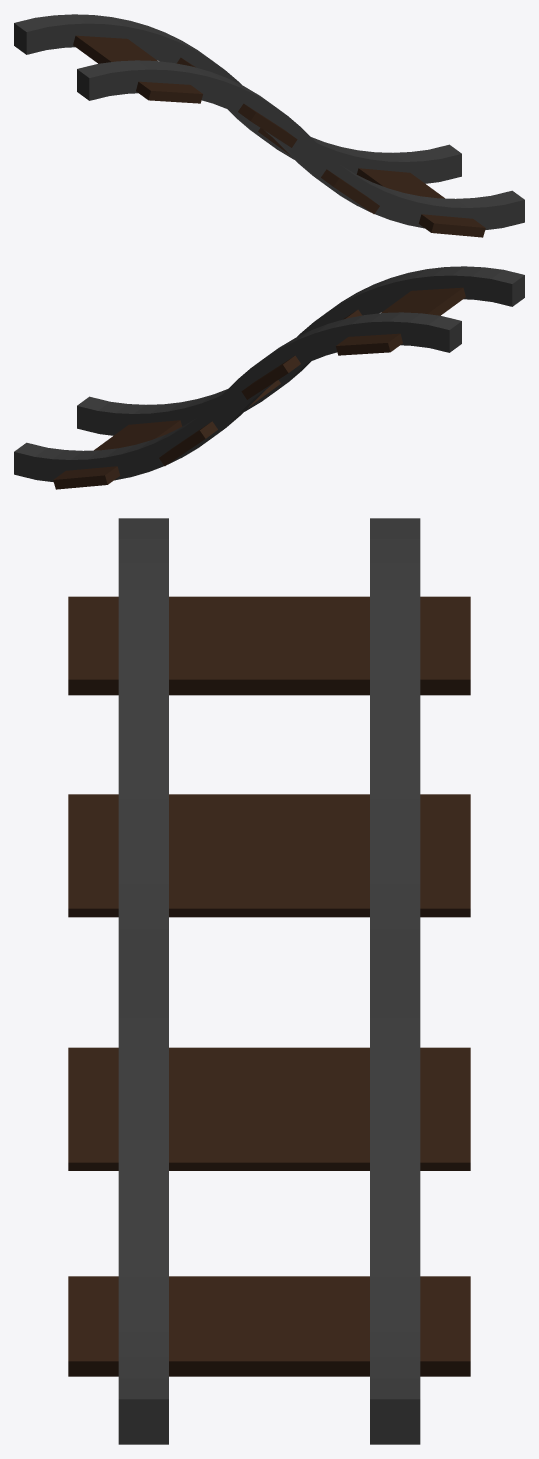
Rendered from Cave_Lair_Rail_Road_Track_Curved_Incline_01.fbx.
3 renders of one model, top to bottom at view 1: azimuth 30°, elevation 25°; view 2: azimuth 150°, elevation 25°; view 3: azimuth 270°, elevation 25°, orthographic. The views are drawn at different scales.
Visible parts, largest first — view 1: Cave_Lair_Rail_Road_Track_Curved_Incline_01; view 2: Cave_Lair_Rail_Road_Track_Curved_Incline_01; view 3: Cave_Lair_Rail_Road_Track_Curved_Incline_01.
Part boxes in pixels (box(x1,y1,x2,y2)): Cave_Lair_Rail_Road_Track_Curved_Incline_01: box(14, 14, 524, 237); Cave_Lair_Rail_Road_Track_Curved_Incline_01: box(14, 266, 524, 489); Cave_Lair_Rail_Road_Track_Curved_Incline_01: box(68, 518, 470, 1444).
Bounding box in the file's own units: 2 × 1.1 × 0.8.
